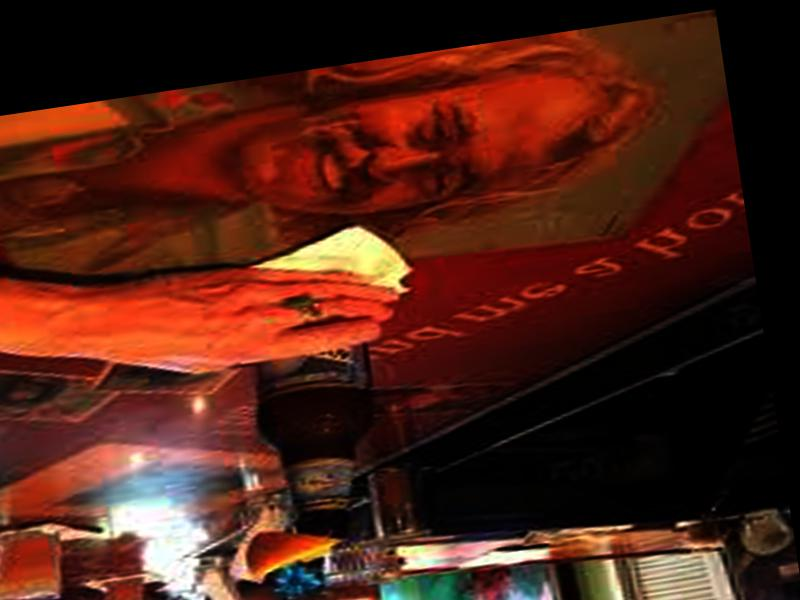Beer: (244, 266, 399, 552)
